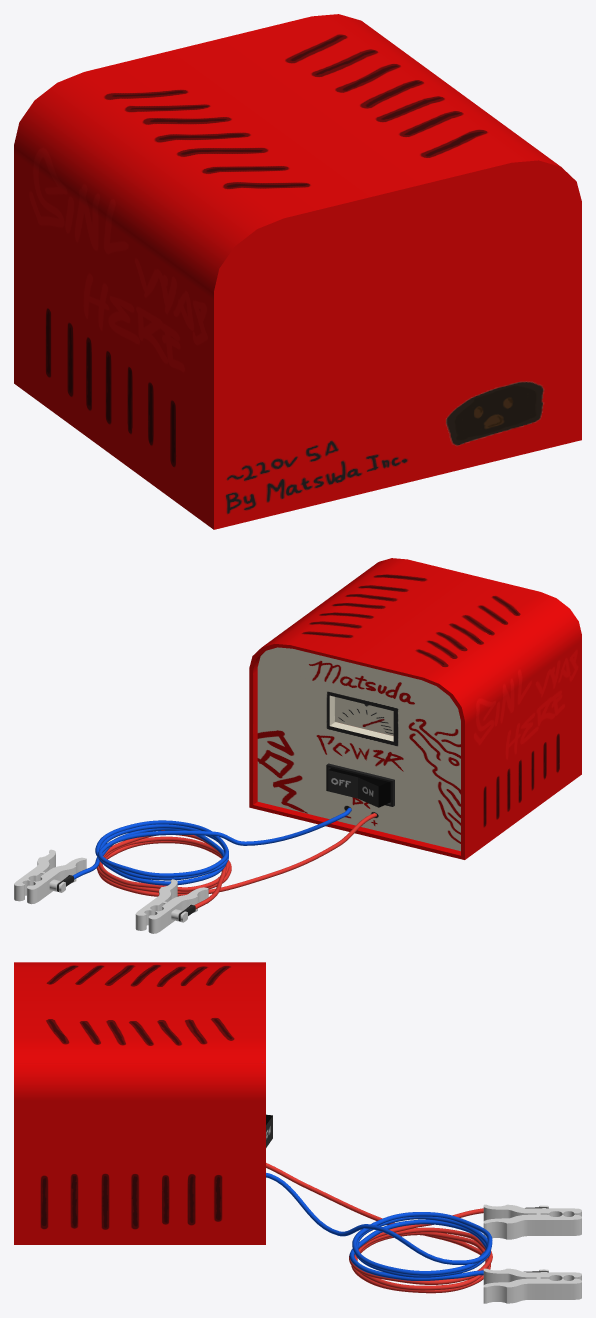
File: cableRollWithPowerSupply.fbx
3 views of the same model, one above another, from view 1: azimuth 30°, elevation 25°; view 2: azimuth 150°, elevation 25°; view 3: azimuth 270°, elevation 25° (orthographic). The views are drawn at different scales.
Visible parts, largest first — view 1: Cube.009; view 2: Cube.009, BezierCurve, BezierCurve.001, Cube.008, Cube.006, Cube.001, Cube.007, Cube; view 3: Cube.009, BezierCurve, BezierCurve.001, Cube, Cube.007, Cube.001, Cube.006.
Boxes of the visible parts, x1=… form: Cube.009: x1=14, y1=14, x2=581, y2=529; Cube.009: x1=249, y1=558, x2=581, y2=859; BezierCurve: x1=72, y1=807, x2=351, y2=885; BezierCurve.001: x1=96, y1=813, x2=376, y2=908; Cube.008: x1=328, y1=768, x2=390, y2=807; Cube.006: x1=148, y1=887, x2=208, y2=933; Cube.001: x1=27, y1=857, x2=86, y2=904; Cube.007: x1=135, y1=879, x2=177, y2=930; Cube: x1=14, y1=849, x2=55, y2=901; Cube.009: x1=14, y1=962, x2=265, y2=1244; BezierCurve: x1=266, y1=1173, x2=492, y2=1280; BezierCurve.001: x1=266, y1=1163, x2=492, y2=1293; Cube: x1=483, y1=1277, x2=581, y2=1303; Cube.007: x1=483, y1=1213, x2=581, y2=1239; Cube.001: x1=483, y1=1268, x2=581, y2=1284; Cube.006: x1=483, y1=1204, x2=581, y2=1220.
Size of the model in its own units: 1304 by 751 by 1904.
